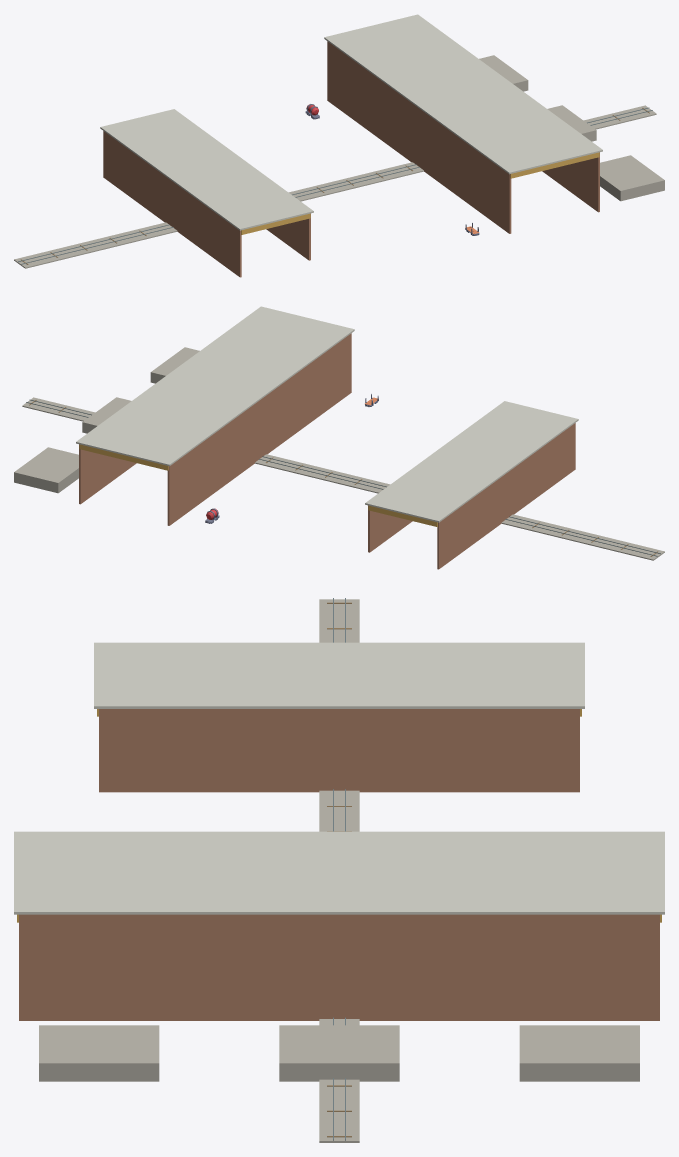
The model's file is valley-2-2.glb.
3 views of the same model, one above another, from view 1: azimuth 30°, elevation 25°; view 2: azimuth 150°, elevation 25°; view 3: azimuth 270°, elevation 25° (orthographic). The views are drawn at different scales.
Parts seen in each view (by area): view 1: valley-2-2; view 2: valley-2-2; view 3: valley-2-2.
Part boxes in pixels (x1,y1,x2,y2): valley-2-2: (14, 14, 664, 277); valley-2-2: (14, 306, 664, 569); valley-2-2: (14, 598, 664, 1142).
Size of the model in its own units: 256 by 24.3 by 130.
Materials: 12 (6 with a texture image).
